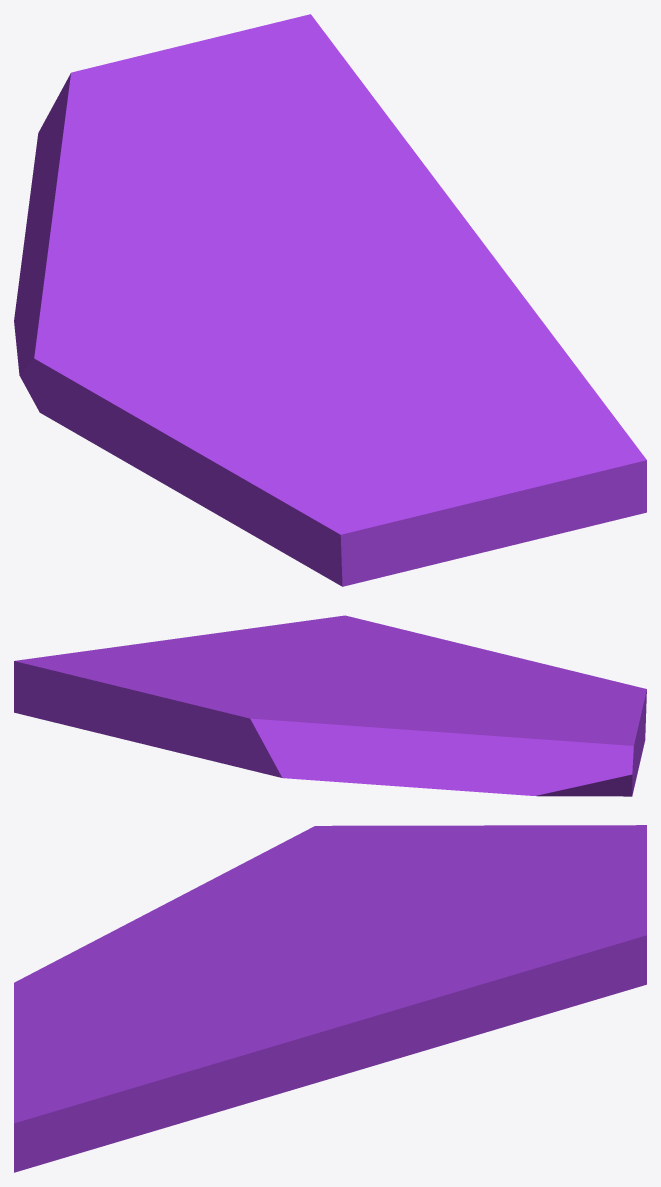
The model's file is Window_161_2_chunks.fbx.
3 renders of one model, top to bottom at view 1: azimuth 30°, elevation 25°; view 2: azimuth 150°, elevation 25°; view 3: azimuth 270°, elevation 25°, orthographic. The views are drawn at different scales.
Visible parts, largest first — view 1: Window_161_2_9, Window_161_2_1, Window_161_2_14, Window_161_2_8, Window_161_2_13, Window_161_2_2, Window_161_2_15, Window_161_2_10, Window_161_2_5, Window_161_2_11, Window_161_2_20, Window_161_2_3 (+9 smaller); view 2: Window_161_2_9, Window_161_2_18, Window_161_2_10, Window_161_2_20, Window_161_2_1, Window_161_2_8, Window_161_2_12, Window_161_2_14, Window_161_2_2, Window_161_2_13, Window_161_2_15, Window_161_2_11 (+9 smaller); view 3: Window_161_2_9, Window_161_2_15, Window_161_2_1, Window_161_2_14, Window_161_2_8, Window_161_2_21, Window_161_2_2, Window_161_2_13, Window_161_2_10, Window_161_2_16, Window_161_2_11, Window_161_2_23 (+10 smaller).
Boxes of the visible parts, bbox=[...] form: Window_161_2_9: bbox=[179, 14, 442, 219]; Window_161_2_1: bbox=[281, 403, 574, 578]; Window_161_2_14: bbox=[377, 337, 604, 529]; Window_161_2_8: bbox=[21, 175, 326, 285]; Window_161_2_13: bbox=[51, 308, 230, 439]; Window_161_2_2: bbox=[246, 294, 395, 434]; Window_161_2_15: bbox=[422, 189, 553, 364]; Window_161_2_10: bbox=[14, 206, 179, 334]; Window_161_2_5: bbox=[217, 426, 375, 586]; Window_161_2_11: bbox=[136, 258, 252, 394]; Window_161_2_20: bbox=[68, 46, 192, 142]; Window_161_2_3: bbox=[43, 406, 241, 514]; Window_161_2_9: bbox=[14, 643, 293, 736]; Window_161_2_18: bbox=[229, 711, 459, 790]; Window_161_2_10: bbox=[409, 706, 580, 796]; Window_161_2_20: bbox=[111, 692, 290, 764]; Window_161_2_1: bbox=[437, 638, 646, 695]; Window_161_2_8: bbox=[281, 673, 460, 790]; Window_161_2_12: bbox=[553, 739, 636, 796]; Window_161_2_14: bbox=[323, 625, 444, 667]; Window_161_2_2: bbox=[364, 668, 560, 698]; Window_161_2_13: bbox=[502, 704, 639, 753]; Window_161_2_15: bbox=[144, 628, 337, 655]; Window_161_2_11: bbox=[399, 693, 545, 719]; Window_161_2_9: bbox=[381, 875, 646, 1035]; Window_161_2_15: bbox=[171, 1000, 398, 1091]; Window_161_2_1: bbox=[14, 948, 155, 1080]; Window_161_2_14: bbox=[14, 987, 235, 1103]; Window_161_2_8: bbox=[341, 825, 498, 957]; Window_161_2_21: bbox=[14, 1073, 139, 1172]; Window_161_2_2: bbox=[151, 922, 329, 1000]; Window_161_2_13: bbox=[176, 831, 354, 921]; Window_161_2_10: bbox=[346, 825, 491, 888]; Window_161_2_16: bbox=[225, 980, 398, 1087]; Window_161_2_11: bbox=[213, 871, 392, 930]; Window_161_2_23: bbox=[137, 1072, 287, 1135].
Bounding box in the file's own units: 919 × 482 × 1165.
